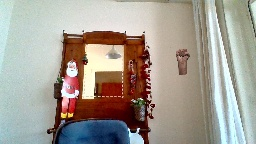Pugno: (174, 46, 190, 61)
